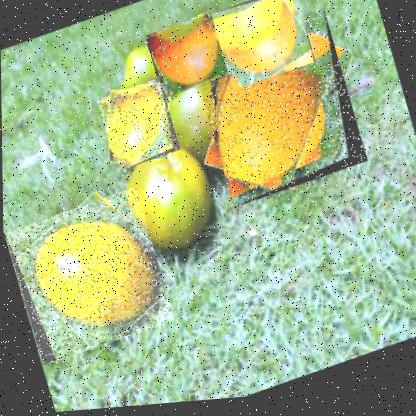orange: (188, 9, 367, 214), (2, 186, 174, 372), (210, 0, 319, 95), (95, 78, 180, 174), (143, 14, 231, 105)
